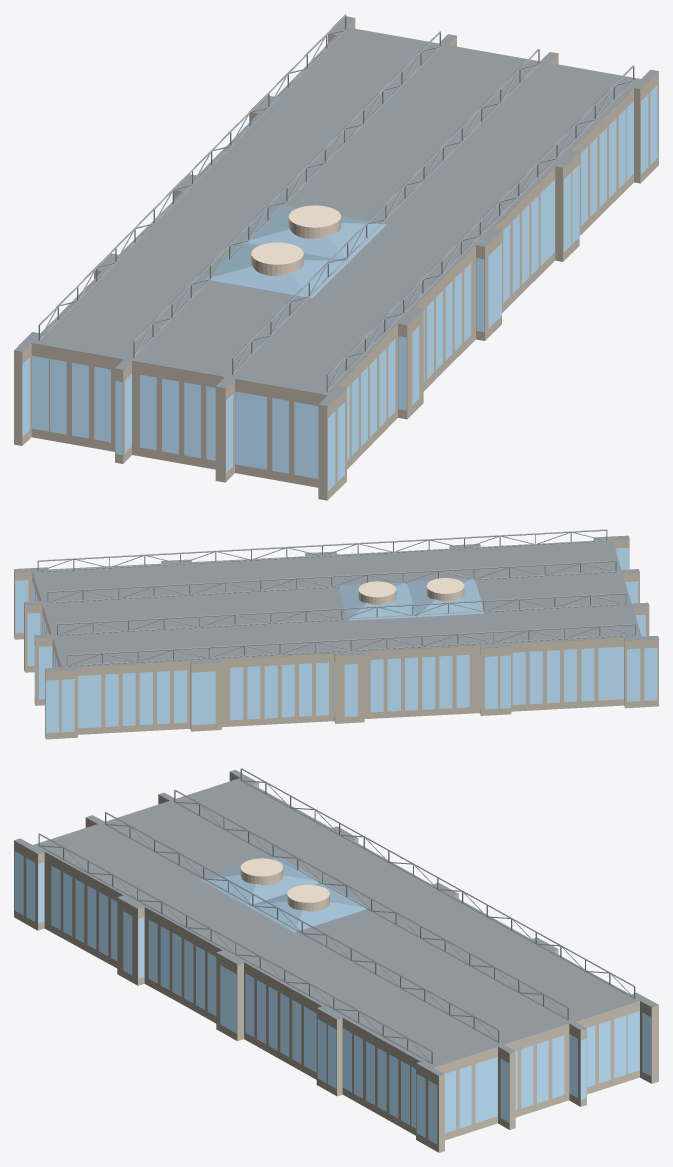
3 renders of one model, top to bottom at view 1: azimuth 30°, elevation 25°; view 2: azimuth 150°, elevation 25°; view 3: azimuth 270°, elevation 25°, orthographic. The views are drawn at different scales.
Visible parts, largest first — view 1: roof, window, stone, glass, trim; view 2: roof, window, stone, glass, trim; view 3: roof, window, stone, glass, trim.
Boxes of the visible parts, x1,y1,x2,y2 form: roof: (14, 14, 658, 406); window: (22, 85, 657, 490); stone: (14, 18, 658, 500); glass: (205, 205, 386, 298); trim: (251, 205, 341, 275); roof: (14, 529, 658, 671); window: (15, 547, 657, 732); stone: (14, 538, 658, 739); glass: (338, 579, 484, 620); trim: (358, 578, 464, 604); roof: (14, 768, 658, 1075); window: (14, 851, 651, 1144); stone: (14, 772, 658, 1152); glass: (201, 856, 368, 932); trim: (240, 858, 329, 911).
Bounding box in the file's own units: 291 × 40 × 259.
